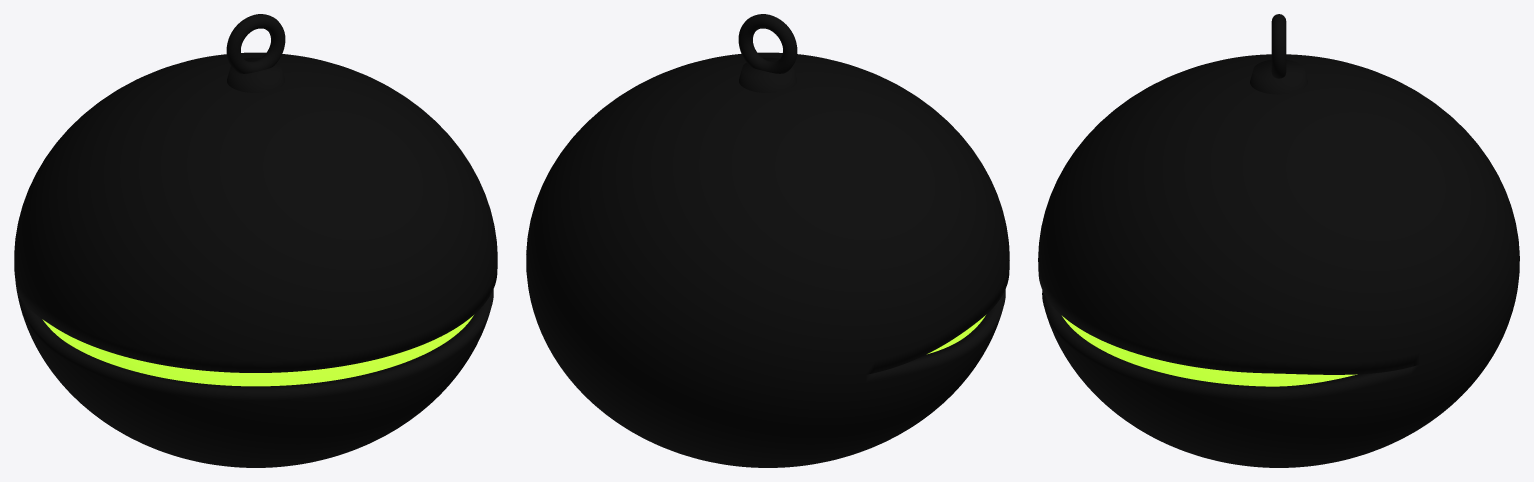
3 views of the same model, side by side, from view 1: azimuth 30°, elevation 25°; view 2: azimuth 150°, elevation 25°; view 3: azimuth 270°, elevation 25° (orthographic).
Parts seen in each view (by area): view 1: suzu_bell, suzu_light; view 2: suzu_bell; view 3: suzu_bell, suzu_light.
Part boxes in pixels (x1,y1,x2,y2): suzu_bell: (14,14,497,467); suzu_light: (42,315,473,386); suzu_bell: (526,14,1009,467); suzu_bell: (1038,14,1519,467); suzu_light: (1062,316,1357,386).
Bounding box in the file's own units: 1.6 × 1.55 × 1.6.
